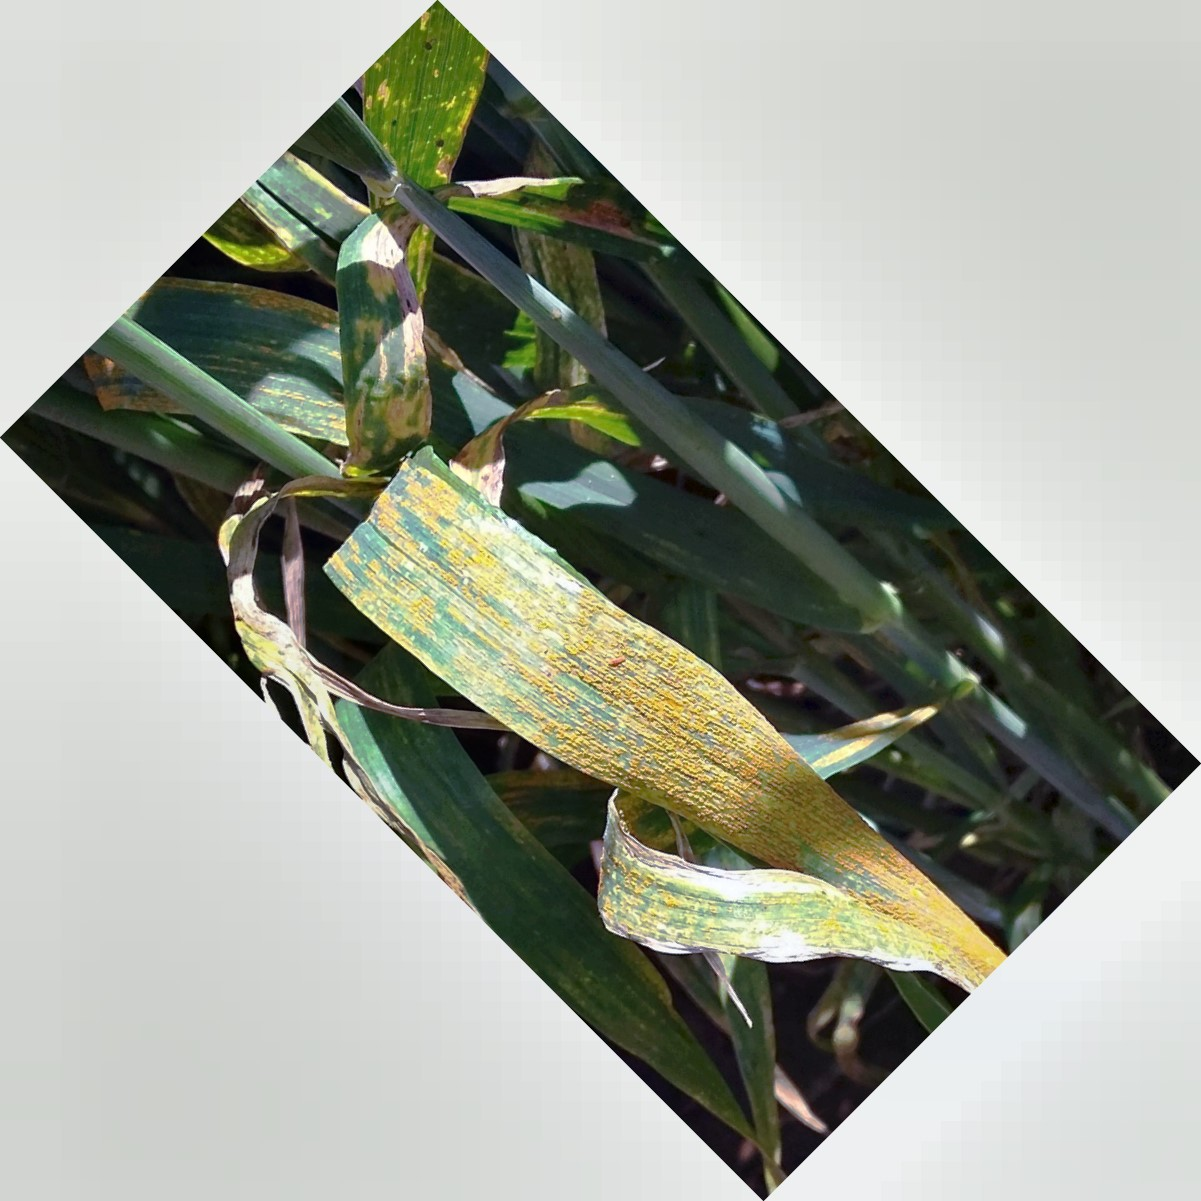Leaf Rust: (376, 517, 928, 927)
